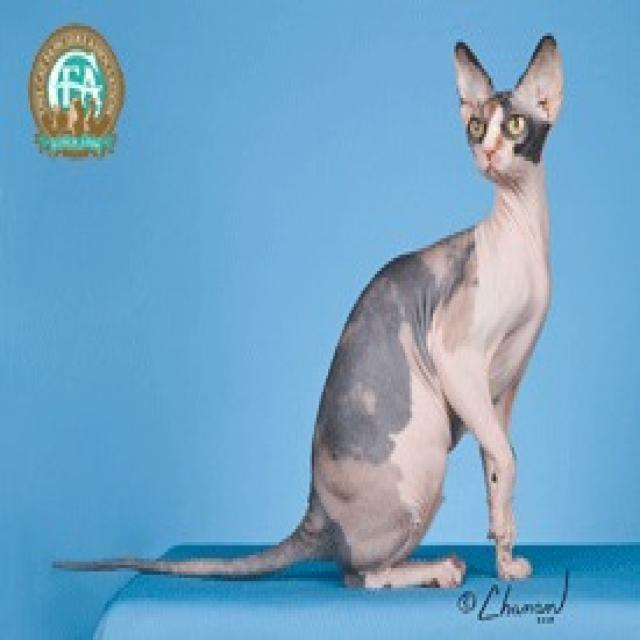Sphynx: (451, 25, 570, 190)
